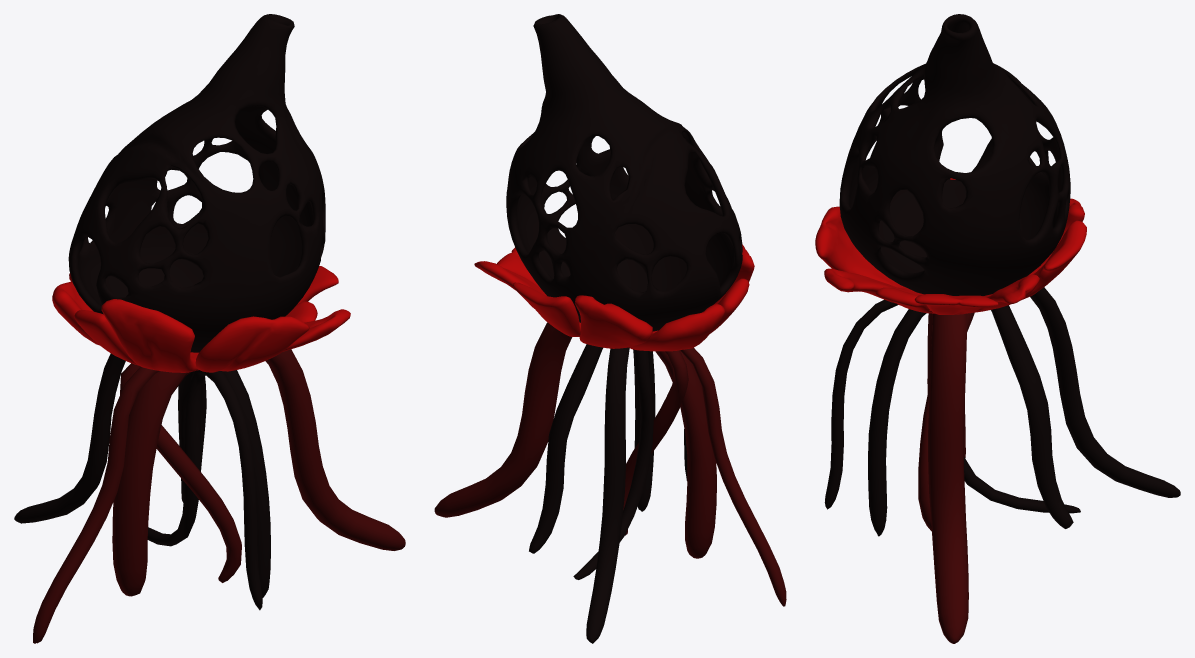
File: SM_oignon.fbx
3 views of the same model, side by side, from view 1: azimuth 30°, elevation 25°; view 2: azimuth 150°, elevation 25°; view 3: azimuth 270°, elevation 25° (orthographic). The views are drawn at different scales.
Parts seen in each view (by area): view 1: Oignon_low; view 2: Oignon_low; view 3: Oignon_low.
Boxes of the visible parts, x1,y1,x2,y2 form: Oignon_low: (14, 14, 405, 643); Oignon_low: (434, 14, 786, 643); Oignon_low: (815, 14, 1180, 643).
Bounding box in the file's own units: 264 × 385 × 223.
